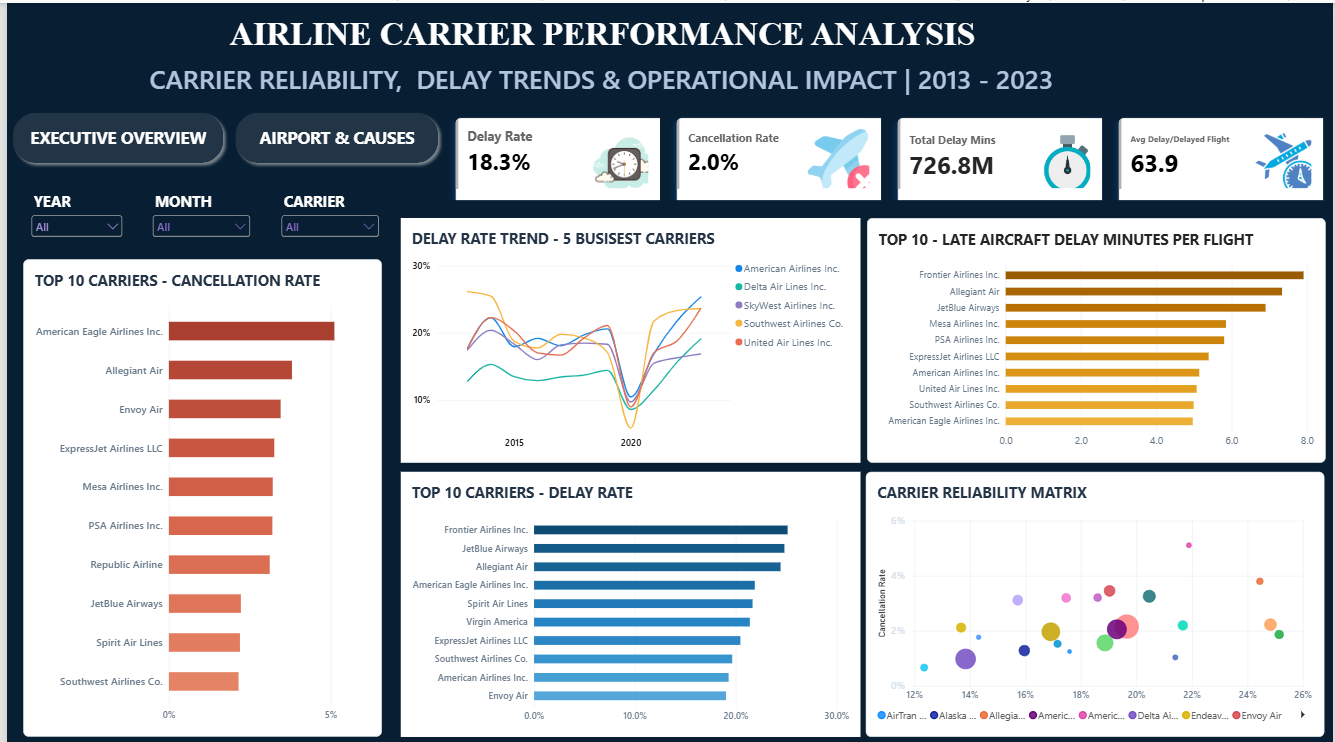

What the dashboard file says about the page in this screenshot:
{"tool":"powerbi","page":{"name":"Carrier Analysis","canvas":[1920,1080],"ordinal":1},"visuals":[{"type":"cardVisual","fields":{"Data":["Airline_Delay_Cause.Delay Rate","Airline_Delay_Cause.Cancellation Rate","Airline_Delay_Cause.Total Delay Minutes","Airline_Delay_Cause.Delay Minutes per Delayed Flights"]},"box":[633.4,150.2,1274,135.7],"z":0},{"type":"textbox","box":[322.1,18.1,1084,67],"z":1000},{"type":"textbox","box":[206.3,85.1,1326.5,50.7],"z":2000},{"type":"clusteredBarChart","title":"TOP 10 CARRIERS - DELAY RATE ","fields":{"Category":["Airline_Delay_Cause.carrier_name_display"],"Y":["Airline_Delay_Cause.Delay Rate"]},"box":[570,678.6,666,383.6],"z":3000},{"type":"lineChart","title":"DELAY RATE TREND - 5 BUSISEST CARRIERS","fields":{"Category":["DateTable.Year"],"Y":["Airline_Delay_Cause.Delay Rate"],"Series":["Airline_Delay_Cause.carrier_name_display"]},"box":[570,311.3,666,354.7],"z":4000},{"type":"scatterChart","title":"CARRIER RELIABILITY MATRIX","fields":{"X":["Airline_Delay_Cause.Delay Rate"],"Y":["Airline_Delay_Cause.Cancellation Rate"],"Size":["Airline_Delay_Cause.Arriving Flights"],"Series":["Airline_Delay_Cause.carrier_name_display"]},"box":[1243.2,678.6,664.1,383.6],"z":5000},{"type":"clusteredBarChart","title":"TOP 10 CARRIERS - CANCELLATION RATE","fields":{"Category":["Airline_Delay_Cause.carrier_name_display"],"Y":["Airline_Delay_Cause.Cancellation Rate"]},"box":[23.5,371,519.4,691.3],"z":6000},{"type":"clusteredBarChart","title":"TOP 10 - LATE AIRCRAFT DELAY MINUTES PER FLIGHT","fields":{"Category":["Airline_Delay_Cause.carrier_name_display"],"Y":["Airline_Delay_Cause.Late Aircraft Mins Per Flight"]},"box":[1245,311.3,664.1,354.7],"z":7000},{"type":"slicer","fields":{"Values":["DateTable.Year"]},"box":[30.8,271.4,141.2,79.6],"z":8000},{"type":"slicer","fields":{"Values":["DateTable.Month Name"]},"box":[206.3,271.4,150.2,79.6],"z":9000},{"type":"slicer","fields":{"Values":["Airline_Delay_Cause.carrier_name_display"]},"box":[392.7,271.4,150.2,79.6],"z":10000},{"type":"actionButton","box":[0,150.2,322.1,90.5],"z":11000},{"type":"actionButton","box":[322.1,150.2,311.3,90.5],"z":12000}]}

Visuals, with their boxes in screenshot pixels (x1, y1, x2, y2), scaled from the page's 1920x1080 canvas onto the 1335x742 screenshot:
cardVisual - Airline_Delay_Cause.Delay Rate x Airline_Delay_Cause.Cancellation Rate: detection(440, 103, 1326, 196)
textbox: detection(224, 12, 978, 58)
textbox: detection(143, 58, 1066, 93)
"TOP 10 CARRIERS - DELAY RATE " clusteredBarChart: detection(396, 466, 859, 730)
"DELAY RATE TREND - 5 BUSISEST CARRIERS" lineChart: detection(396, 214, 859, 458)
"CARRIER RELIABILITY MATRIX" scatterChart: detection(864, 466, 1326, 730)
"TOP 10 CARRIERS - CANCELLATION RATE" clusteredBarChart: detection(16, 255, 377, 730)
"TOP 10 - LATE AIRCRAFT DELAY MINUTES PER FLIGHT" clusteredBarChart: detection(866, 214, 1327, 458)
slicer - DateTable.Year: detection(21, 186, 120, 241)
slicer - DateTable.Month Name: detection(143, 186, 248, 241)
slicer - Airline_Delay_Cause.carrier_name_display: detection(273, 186, 377, 241)
actionButton: detection(0, 103, 224, 165)
actionButton: detection(224, 103, 440, 165)
